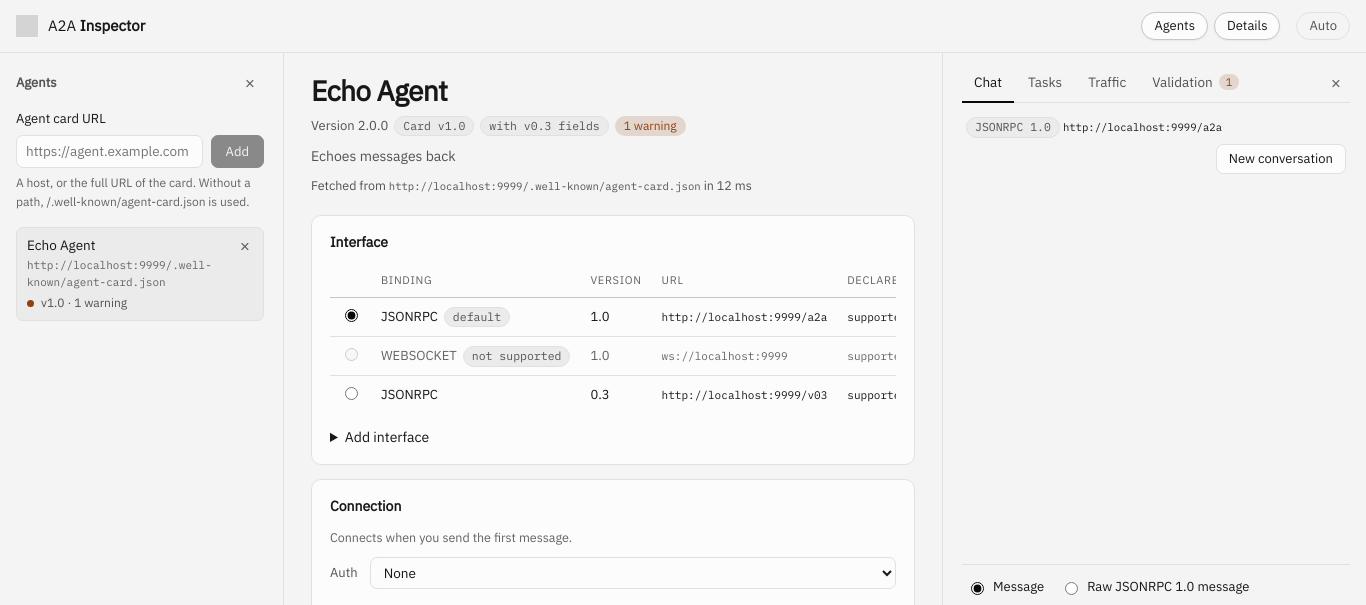
Test: App › talking to agents › subscribes to a task and stops
Expected: the heading "Echo Agent" is shown, [311,72,447,109]
Click the tab "Tasks" at (1045, 83), box [1016,62,1074,103]
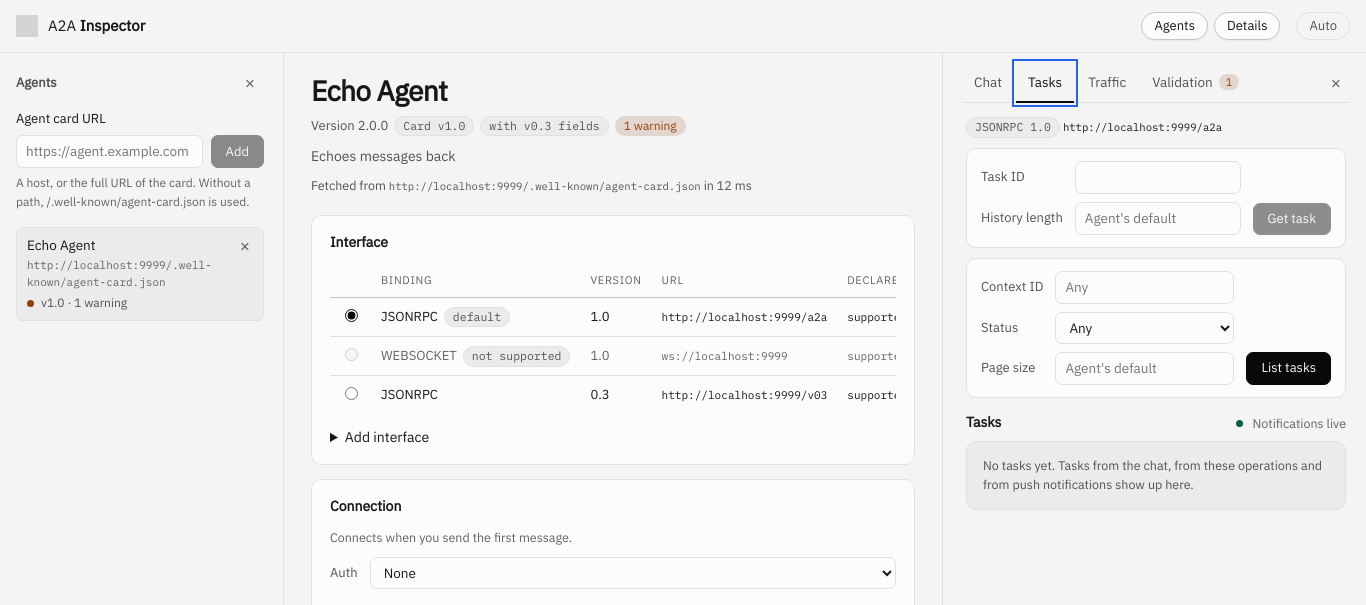
Type "t-1" into the field labelled "Task ID" at (1158, 177), box [1075,161,1240,194]
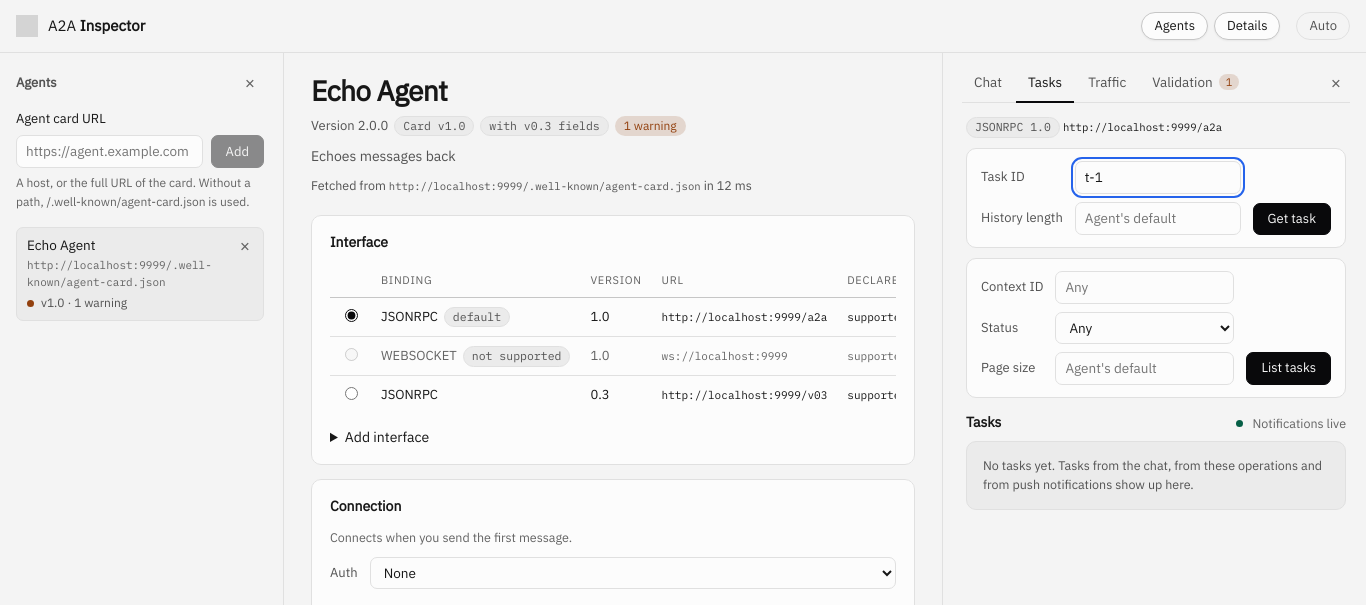
Click the button "Get task" at (1292, 219), box [1252,202,1331,235]
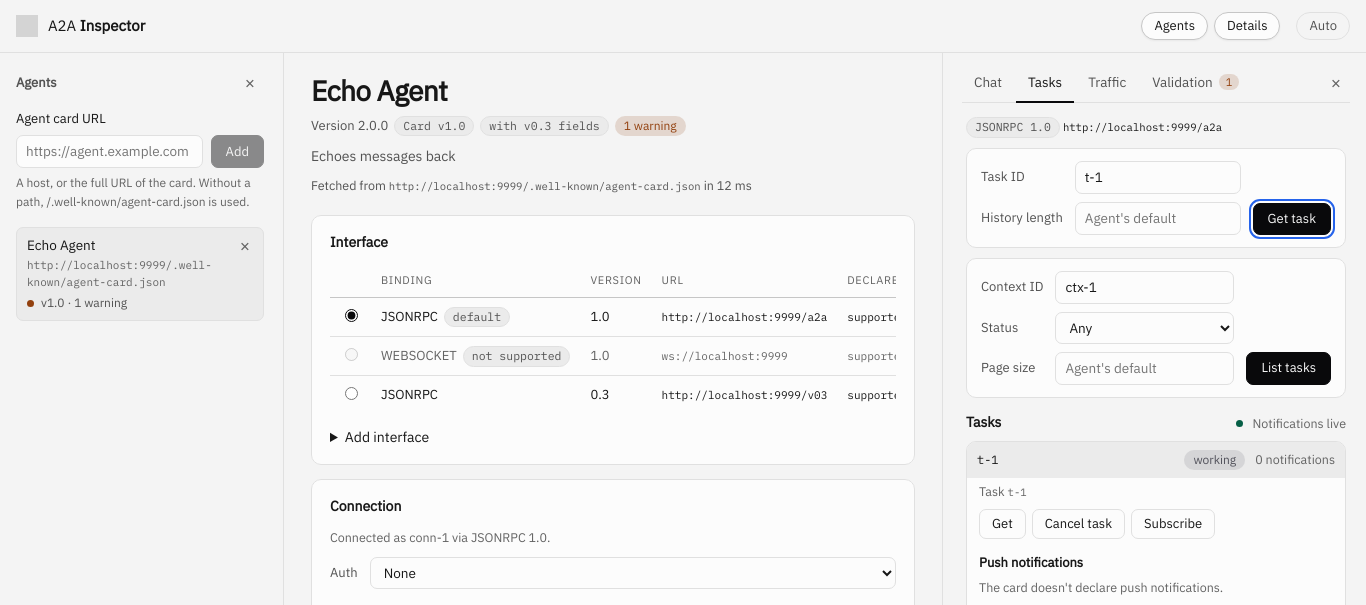
Click the button "Subscribe" at (1173, 524), box [1131,509,1215,539]
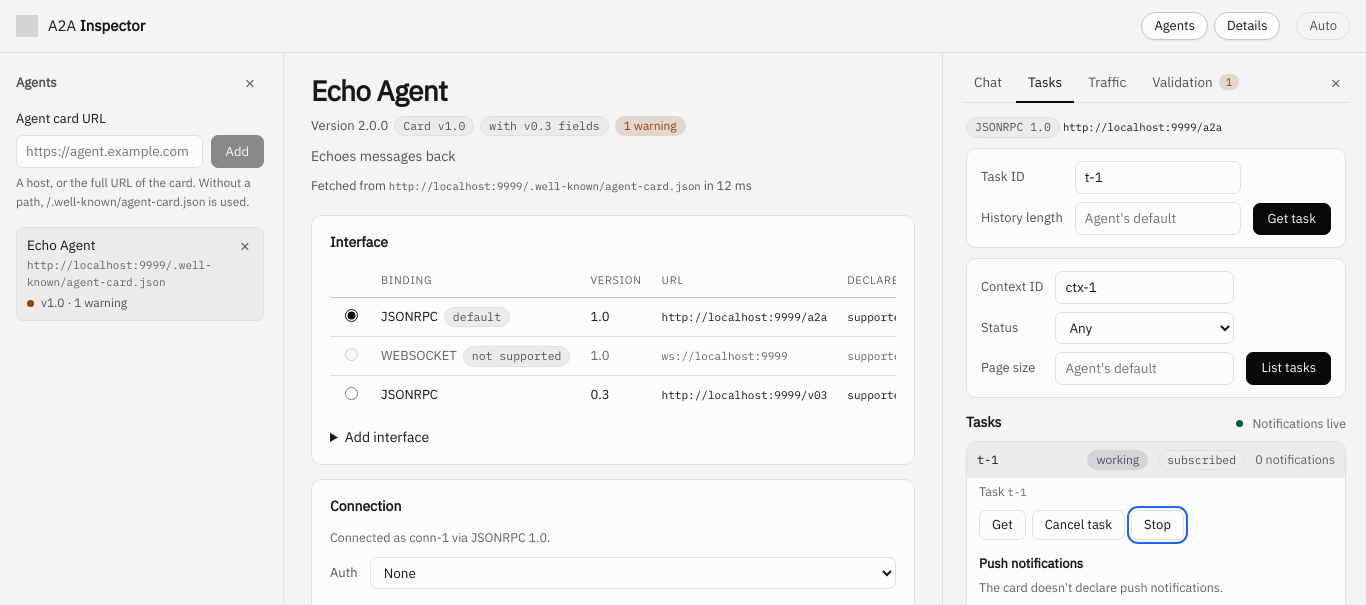
Result: the text "subscribed" is shown at [1158,450,1245,470]
Click the button "Stop" at (1157, 525), box [1131,510,1184,540]
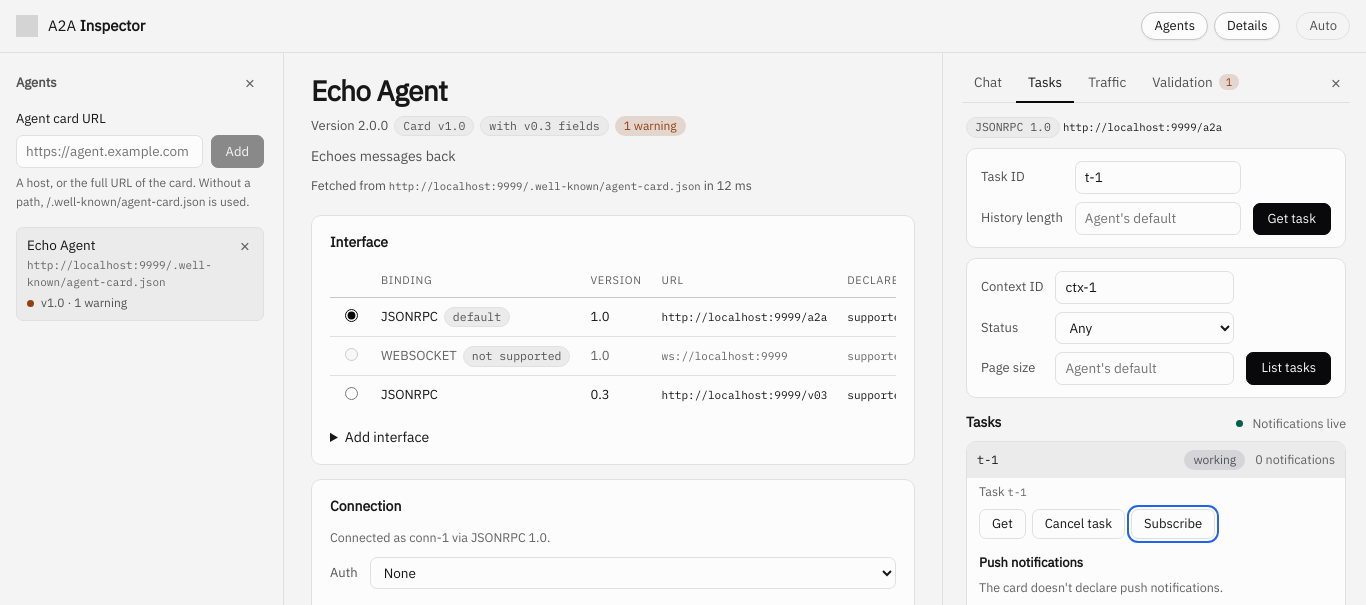
Result: the button "Subscribe" is shown at [1131,509,1215,539]
